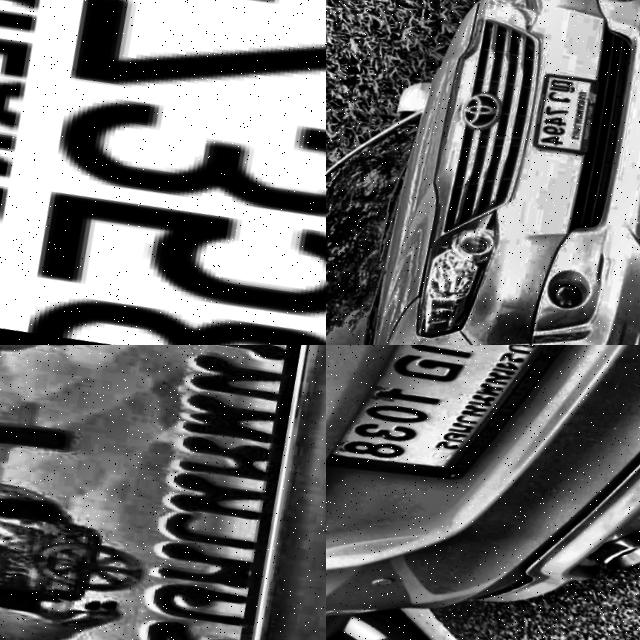license-plate: (0, 0, 326, 345), (0, 345, 326, 640), (326, 345, 601, 525), (522, 71, 606, 167)
